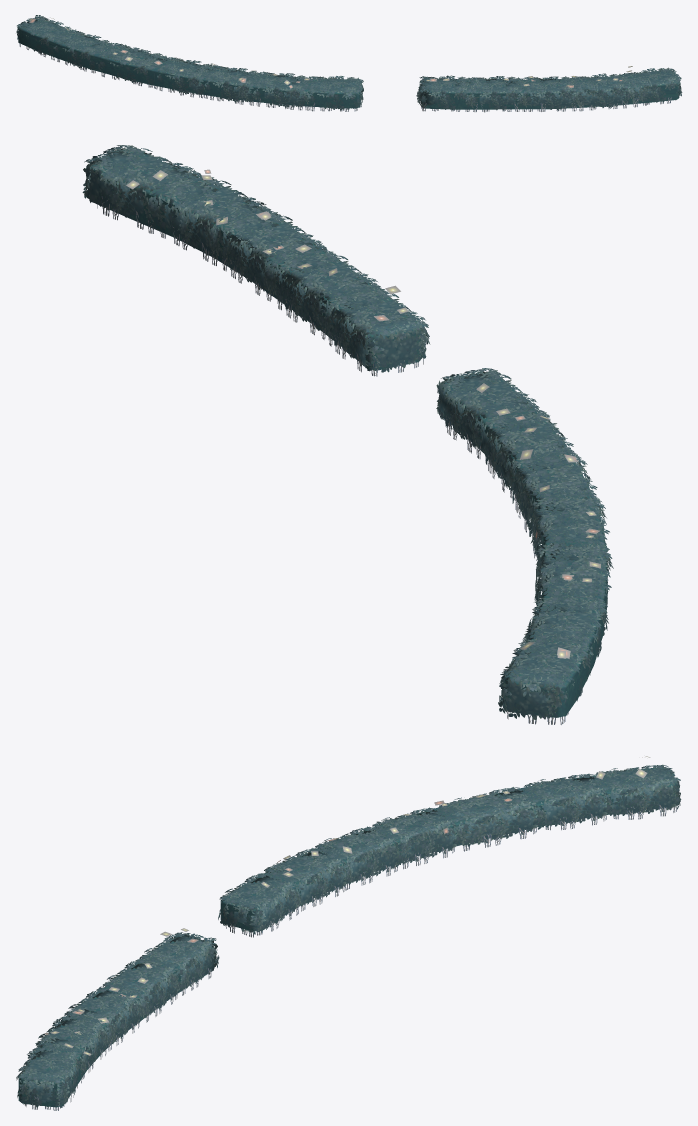
The model's file is pref_sm_beach_winter_techvegetation06_lv3.fbx.
3 views of the same model, one above another, from view 1: azimuth 30°, elevation 25°; view 2: azimuth 150°, elevation 25°; view 3: azimuth 270°, elevation 25° (orthographic). The views are drawn at different scales.
Parts seen in each view (by area): view 1: sm_beach_winter_techvegetation06b_lv3, sm_beach_winter_techvegetation06a_lv3, sm_beach_winter_techvegetation06c_lv3; view 2: sm_beach_winter_techvegetation06b_lv3, sm_beach_winter_techvegetation06a_lv3, sm_beach_winter_techvegetation06c_lv3; view 3: sm_beach_winter_techvegetation06b_lv3, sm_beach_winter_techvegetation06a_lv3, sm_beach_winter_techvegetation06c_lv3.
Boxes of the visible parts, x1,y1,x2,y2 form: sm_beach_winter_techvegetation06b_lv3: (16,15,363,111); sm_beach_winter_techvegetation06a_lv3: (416,67,682,112); sm_beach_winter_techvegetation06c_lv3: (29,17,632,88); sm_beach_winter_techvegetation06b_lv3: (436,368,613,724); sm_beach_winter_techvegetation06a_lv3: (82,145,430,376); sm_beach_winter_techvegetation06c_lv3: (126,169,601,658); sm_beach_winter_techvegetation06b_lv3: (218,764,681,937); sm_beach_winter_techvegetation06a_lv3: (16,932,219,1110); sm_beach_winter_techvegetation06c_lv3: (44,756,650,1055).
Size of the model in its own units: 36.88 by 2.44 by 32.51.
